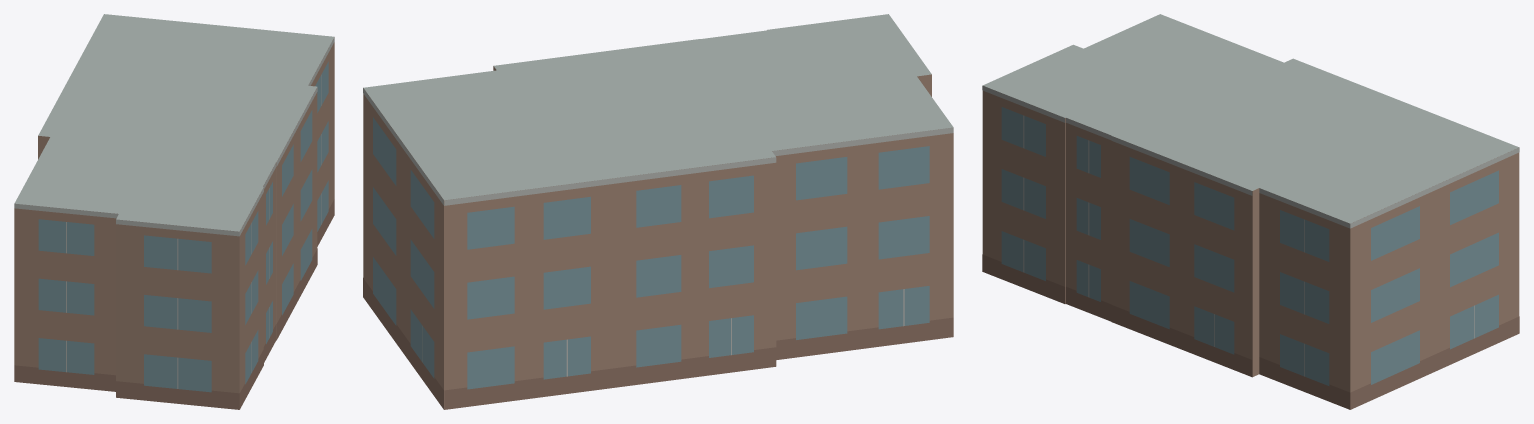
File: survey-upis-32995227.glb
3 views of the same model, side by side, from view 1: azimuth 30°, elevation 25°; view 2: azimuth 150°, elevation 25°; view 3: azimuth 270°, elevation 25° (orthographic). The views are drawn at different scales.
Parts seen in each view (by area): view 1: survey-upis-32995227.tmp; view 2: survey-upis-32995227.tmp; view 3: survey-upis-32995227.tmp.
Part boxes in pixels (x1,y1,x2,y2): survey-upis-32995227.tmp: (14,14,334,409); survey-upis-32995227.tmp: (363,14,953,409); survey-upis-32995227.tmp: (982,14,1519,409).
Size of the model in its own units: 22.1 by 9.15 by 23.91.
